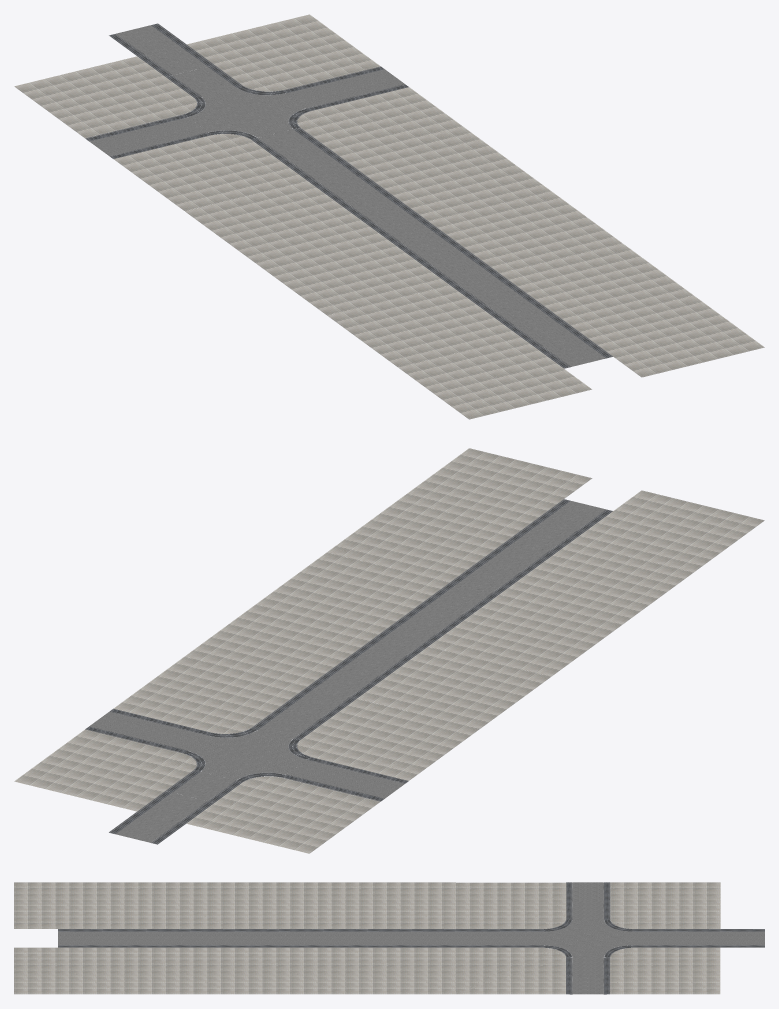
The model's file is CuadraSanNicolas.glb.
3 views of the same model, one above another, from view 1: azimuth 30°, elevation 25°; view 2: azimuth 150°, elevation 25°; view 3: azimuth 270°, elevation 25° (orthographic). The views are drawn at different scales.
Visible parts, largest first — view 1: Vereda.001, Plane.003, Vereda, Calle.001, Calle, AlcantarillasCurvas; view 2: Plane.003, Vereda.001, Vereda, Calle.001, Calle, AlcantarillasCurvas; view 3: Vereda.001, Vereda, Plane.003, Calle.001, Calle, AlcantarillasCurvas.
Part boxes in pixels (left/top/right/bottom): Vereda.001: left=357, top=139, right=764, bottom=377; Plane.003: left=185, top=181, right=591, bottom=419; Vereda: left=14, top=14, right=479, bottom=210; Calle.001: left=251, top=127, right=612, bottom=368; Calle: left=85, top=23, right=408, bottom=158; AlcantarillasCurvas: left=184, top=86, right=310, bottom=139; Plane.003: left=357, top=490, right=764, bottom=728; Vereda.001: left=185, top=448, right=592, bottom=686; Vereda: left=14, top=656, right=479, bottom=853; Calle.001: left=251, top=499, right=612, bottom=740; Calle: left=85, top=708, right=408, bottom=844; AlcantarillasCurvas: left=184, top=728, right=310, bottom=781; Vereda.001: left=14, top=947, right=455, bottom=994; Vereda: left=455, top=882, right=720, bottom=994; Plane.003: left=14, top=882, right=455, bottom=928; Calle.001: left=58, top=929, right=543, bottom=947; Calle: left=566, top=882, right=764, bottom=994; AlcantarillasCurvas: left=544, top=919, right=632, bottom=956.
Bounding box in the file's own units: 12 × 0.00587 × 34.
Materials: 10 (10 with a texture image).
